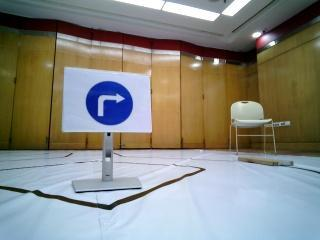right: (70, 75, 150, 130)
